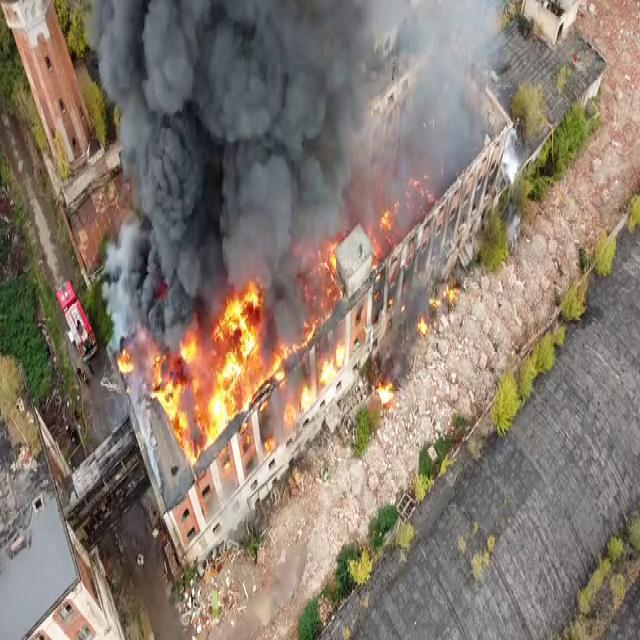fire: (212, 328, 244, 381), (148, 354, 184, 397), (274, 369, 298, 432), (164, 389, 200, 427), (223, 299, 256, 336), (187, 336, 213, 382), (301, 260, 331, 298), (200, 388, 224, 432), (247, 341, 273, 376), (366, 210, 394, 242), (258, 409, 277, 452), (406, 178, 430, 209), (393, 192, 417, 222), (294, 368, 313, 405), (180, 418, 200, 453), (442, 279, 460, 312), (318, 352, 334, 387), (376, 383, 396, 409), (230, 384, 248, 410), (118, 352, 134, 378), (333, 337, 346, 367), (414, 313, 428, 337)
smoke: (218, 175, 290, 278), (168, 142, 220, 270), (214, 82, 278, 170), (116, 2, 180, 80), (180, 0, 240, 82), (240, 0, 300, 76), (281, 84, 330, 174), (297, 5, 355, 80), (352, 4, 408, 68), (288, 180, 346, 236), (126, 223, 172, 287), (168, 86, 210, 152), (336, 82, 368, 166), (420, 110, 466, 168), (126, 137, 172, 194), (105, 252, 138, 328), (444, 1, 490, 54), (118, 88, 166, 138), (406, 1, 452, 49), (426, 58, 456, 122), (149, 299, 186, 342), (178, 252, 208, 305), (86, 3, 120, 44), (100, 60, 130, 90), (278, 304, 302, 339)
